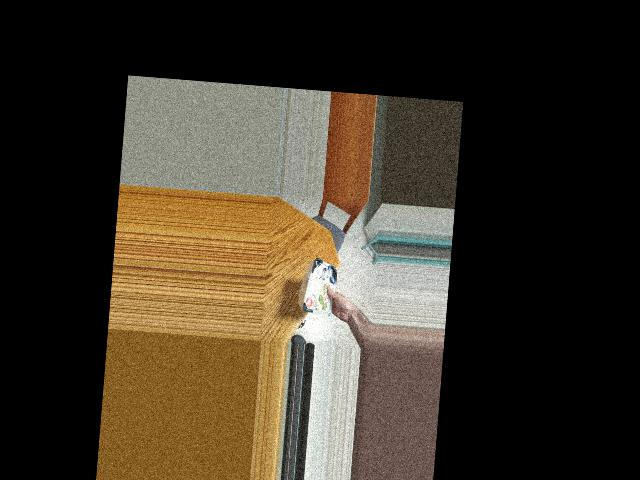cheese: (300, 260, 343, 314)
